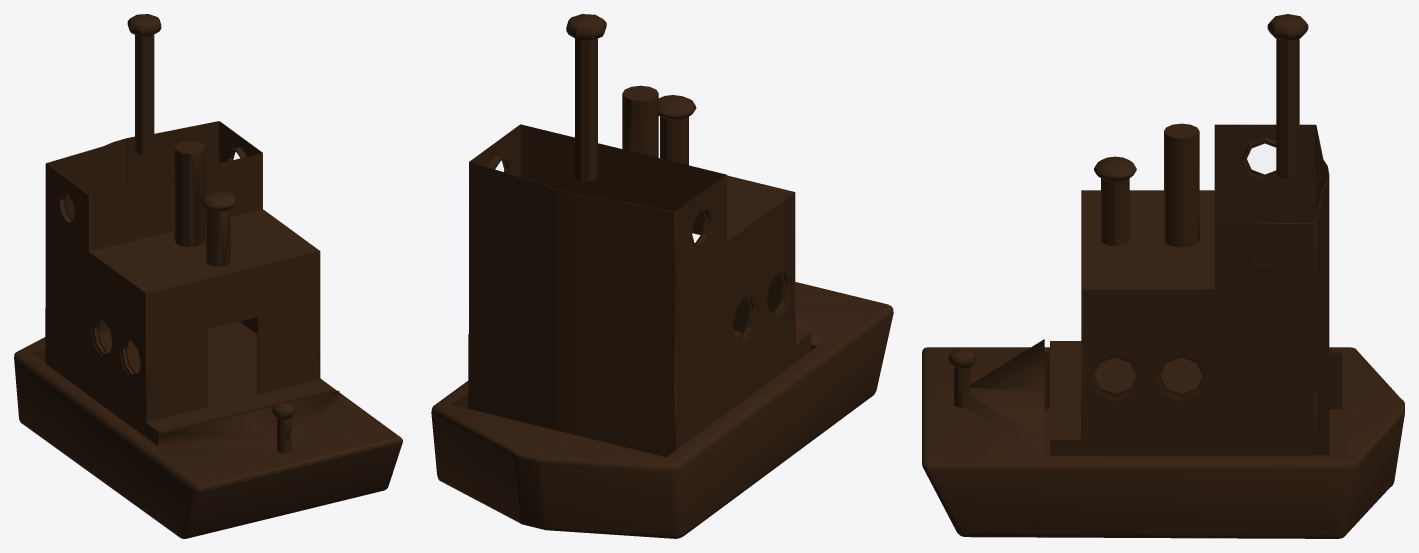
Rendered from 1barco.glb.
3 views of the same model, side by side, from view 1: azimuth 30°, elevation 25°; view 2: azimuth 150°, elevation 25°; view 3: azimuth 270°, elevation 25° (orthographic). The views are drawn at different scales.
Parts seen in each view (by area): view 1: barco.002; view 2: barco.002; view 3: barco.002.
Boxes of the visible parts, x1,y1,x2,y2 form: barco.002: (14,14,402,538); barco.002: (431,14,893,538); barco.002: (922,14,1404,538).
Size of the model in its own units: 0.1331 by 0.2427 by 0.2286.
